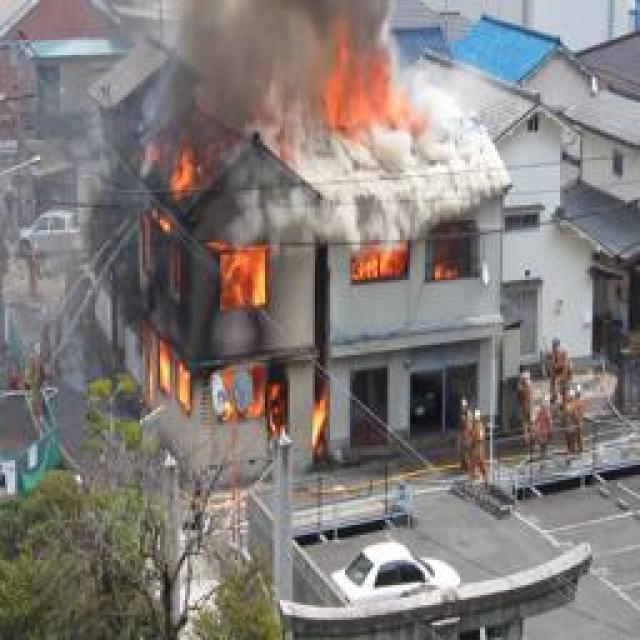Fire: (154, 142, 289, 427), (299, 27, 433, 135), (355, 241, 475, 283)
